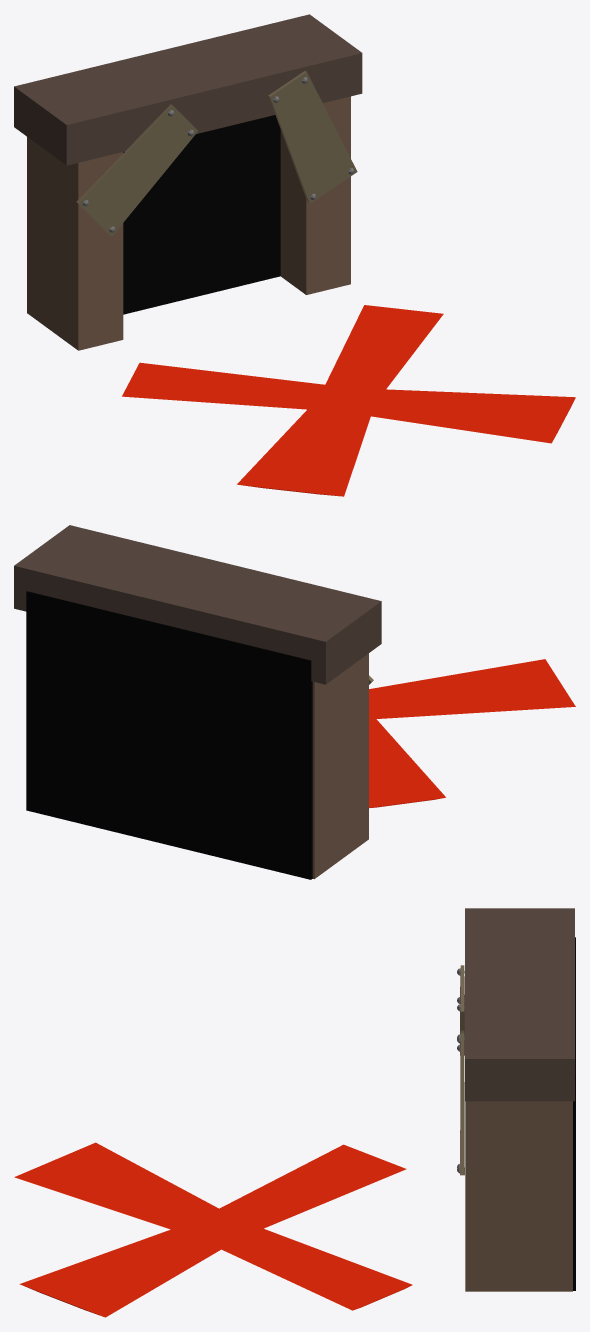
The model's file is RatoneraTutorial.fbx.
3 renders of one model, top to bottom at view 1: azimuth 30°, elevation 25°; view 2: azimuth 150°, elevation 25°; view 3: azimuth 270°, elevation 25°, orthographic. The views are drawn at different scales.
Visible parts, largest first — view 1: pCube7, pCube11, pCube8, pCube9, pCube10, polySurface10, polySurface5; view 2: pCube8, pCube11, pCube7, pCube9; view 3: pCube7, pCube11, pCube10, polySurface10, pCube8.
Boxes of the visible parts, x1,y1,x2,y2 form: pCube7: (122,305,575,496); pCube11: (14,14,362,165); pCube8: (123,115,280,314); pCube9: (27,137,123,350); pCube10: (280,96,350,294); polySurface10: (268,71,357,203); polySurface5: (76,104,197,236); pCube8: (26,591,312,879); pCube11: (14,525,381,684); pCube7: (369,659,575,808); pCube9: (312,653,368,879); pCube7: (14,1142,412,1317); pCube11: (465,908,574,1101); pCube10: (465,1101,572,1291); polySurface10: (457,1030,464,1175); pCube8: (573,937,575,1290).
Bounding box in the file's own units: 7.65 × 4.86 × 10.38.
